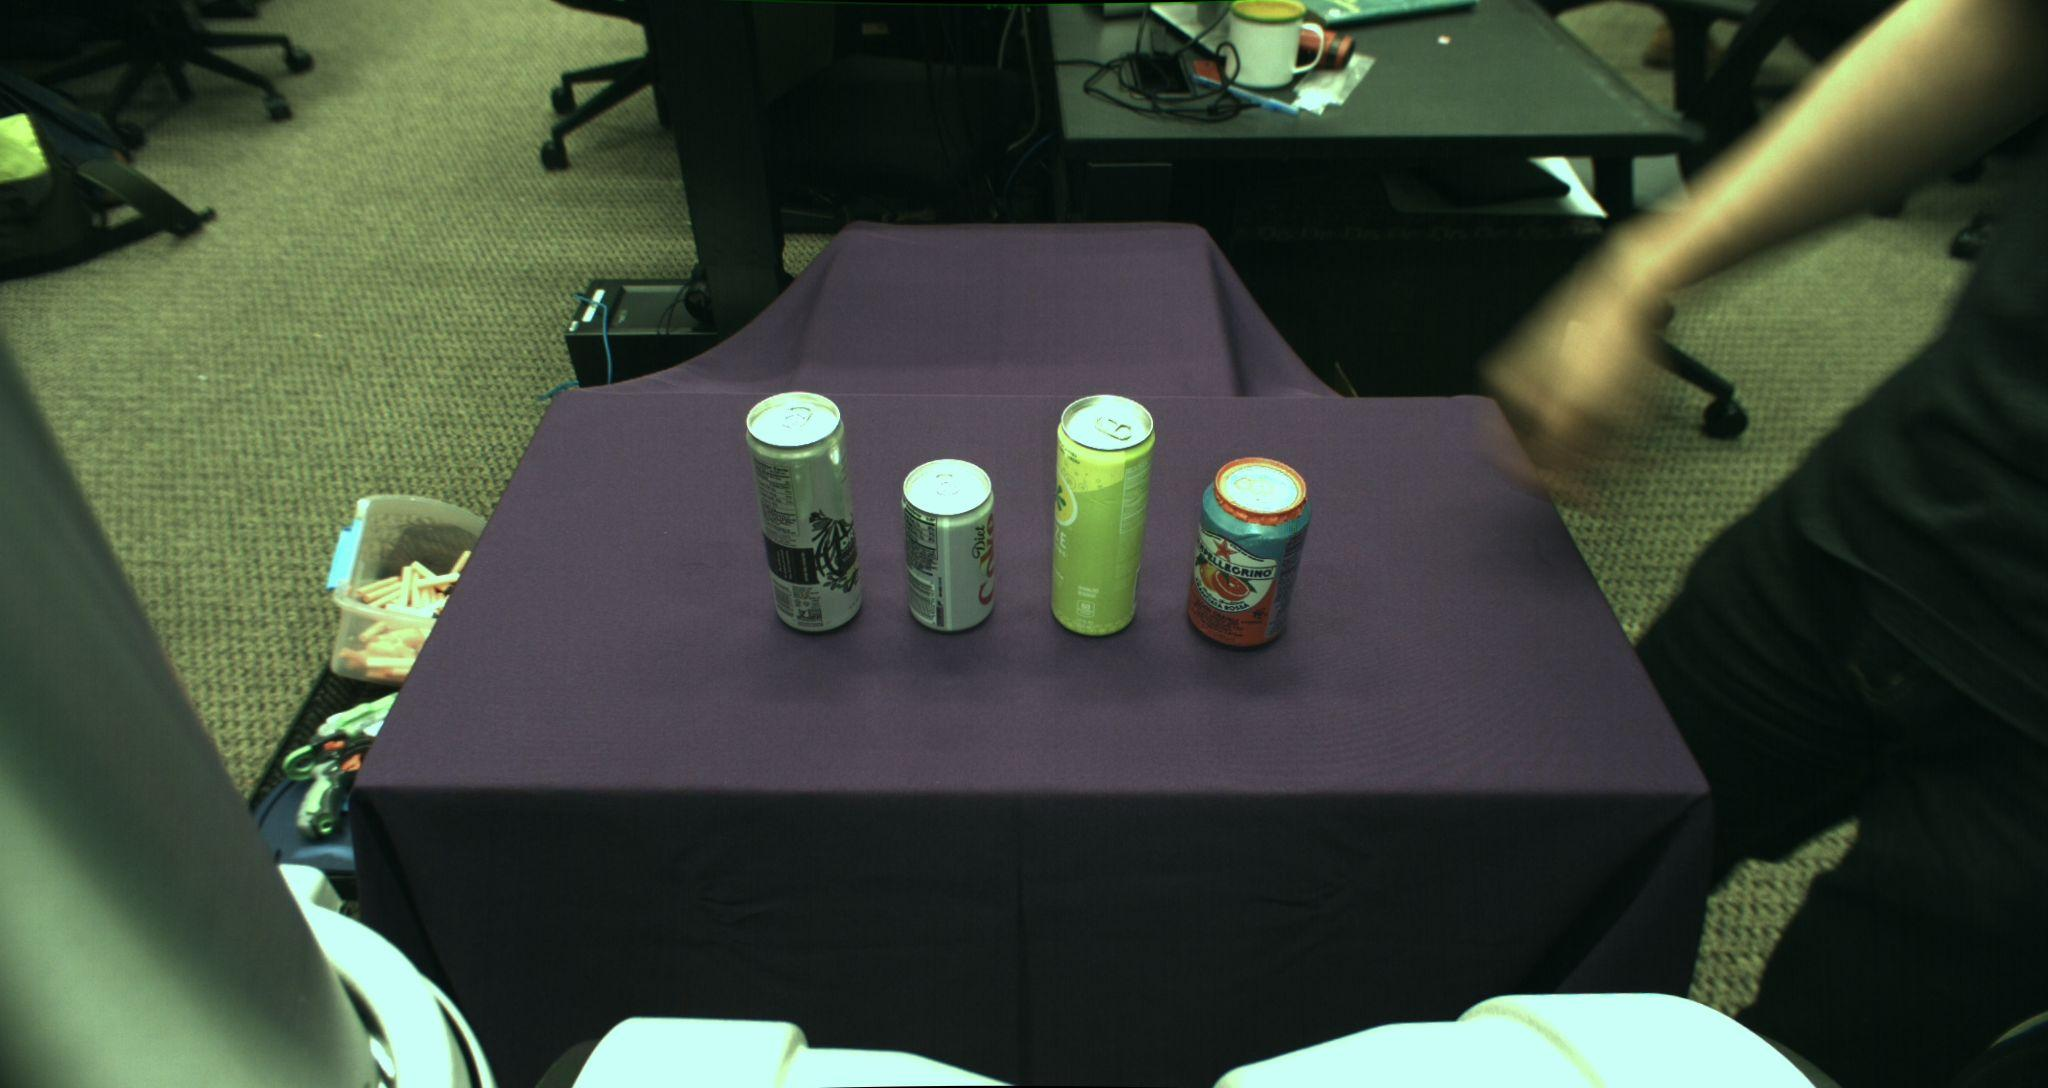can_diet_coke_small: (901, 458, 996, 633)
can_dry_sparkling_vanilla_bean: (745, 392, 863, 633)
can_izze_fusions_lemon_lime: (1050, 393, 1154, 635)
can_sanpellegrino_blood_orange: (1187, 455, 1313, 649)
